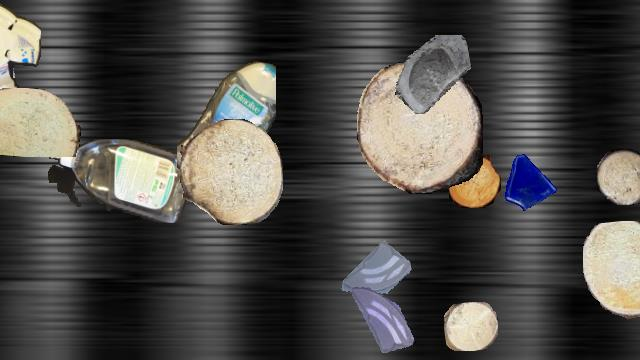glass: (393, 35, 471, 113), (344, 285, 418, 359), (339, 238, 411, 310), (499, 151, 559, 211), (0, 30, 18, 124)
plastic: (177, 57, 275, 191), (48, 139, 194, 223), (0, 1, 40, 101)
wood: (357, 61, 483, 193), (180, 119, 282, 225), (583, 221, 640, 319), (0, 88, 80, 156), (448, 155, 500, 207), (444, 302, 498, 350), (597, 149, 640, 205)
